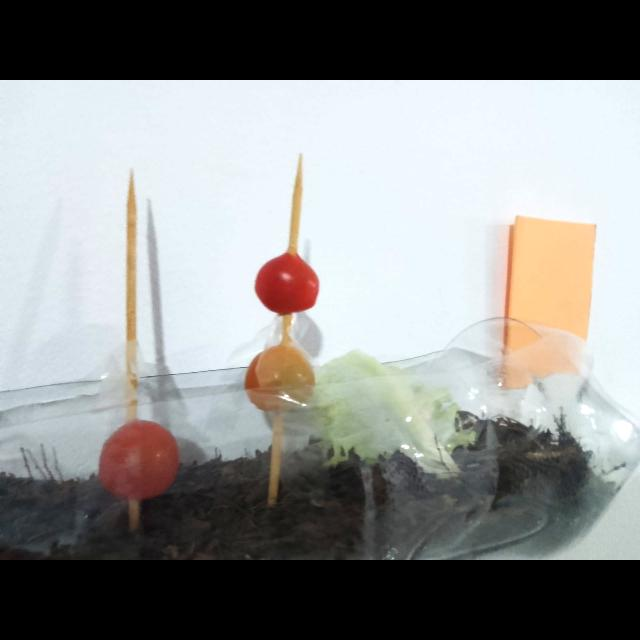card: (502, 216, 595, 387)
fruit_maturation: (98, 419, 179, 501), (251, 341, 315, 401), (256, 399, 278, 410)
fully_grown: (255, 253, 319, 315)
